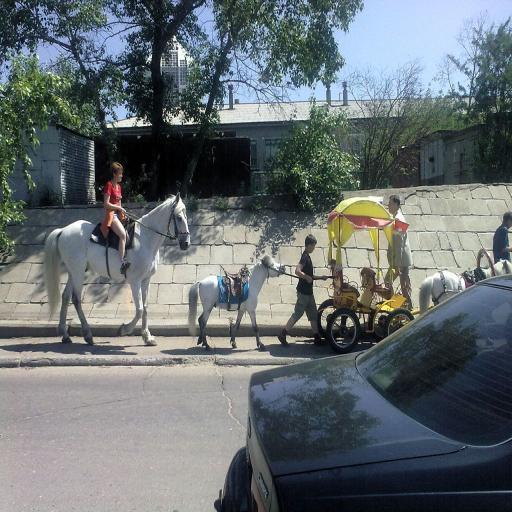Horse: (44, 189, 192, 347), (184, 251, 289, 353), (420, 260, 511, 315)
